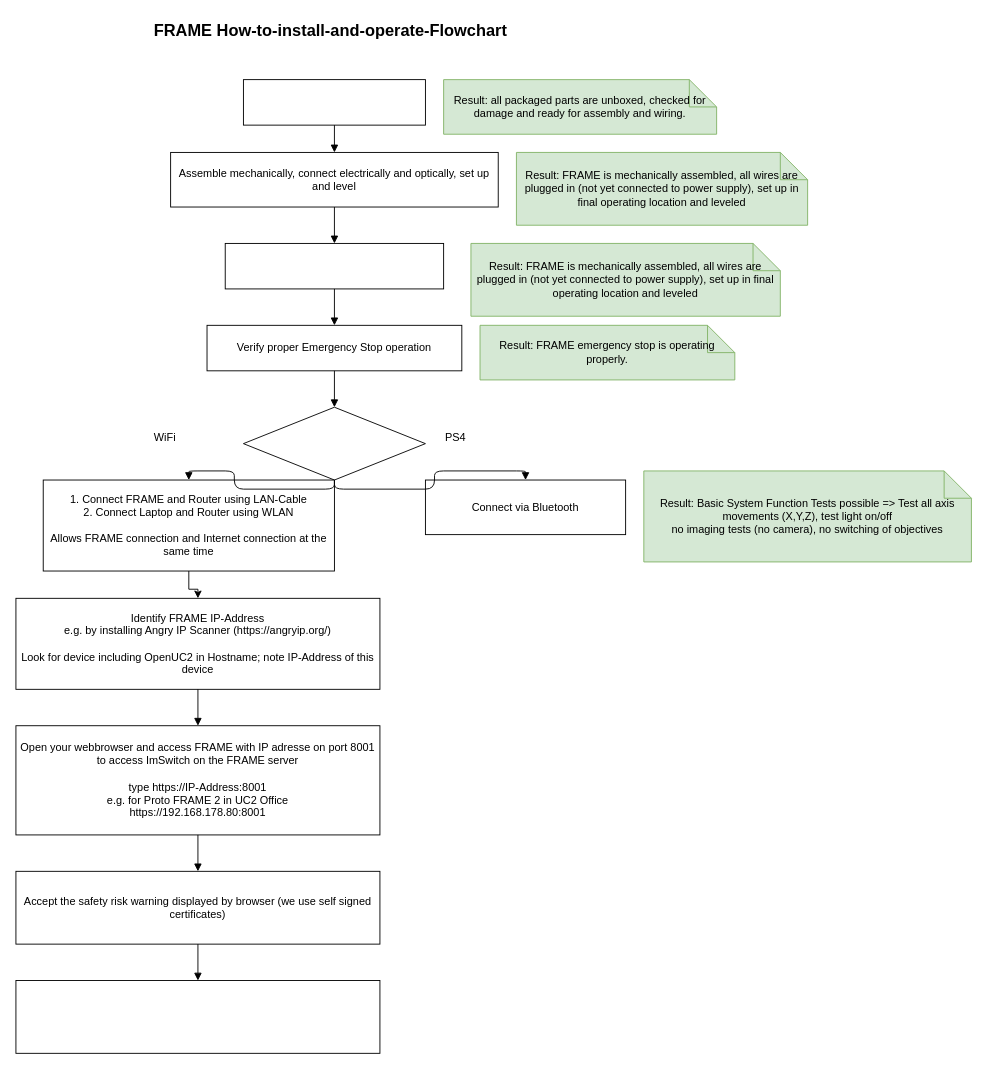
This 987x1069 diagram has some shape labels left out. Here are the shapes that lost their labels. From the top down, the box of each, then its label:
(243, 79, 425, 125): Unbox
(224, 243, 444, 289): Power on, Self Tests and Homing
(243, 406, 425, 480): Connect & control
(15, 980, 380, 1053): ImSwitch (installed on FRAME Server) opens up in Browser in simulation mode
